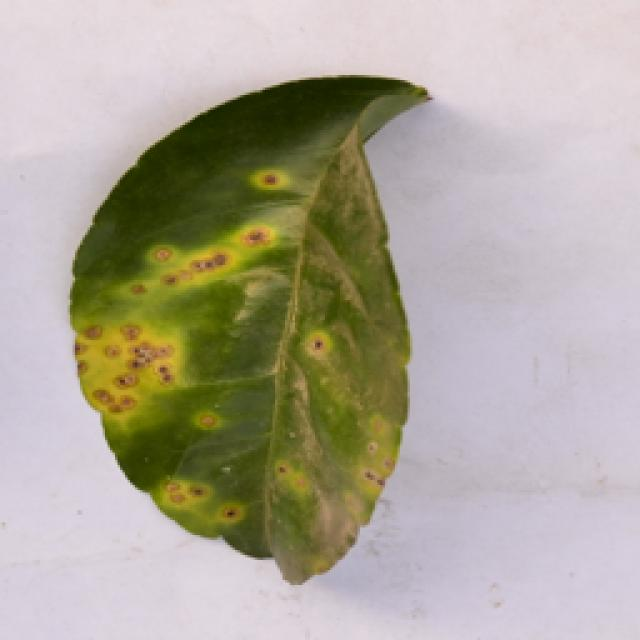canker: (53, 69, 456, 537)
